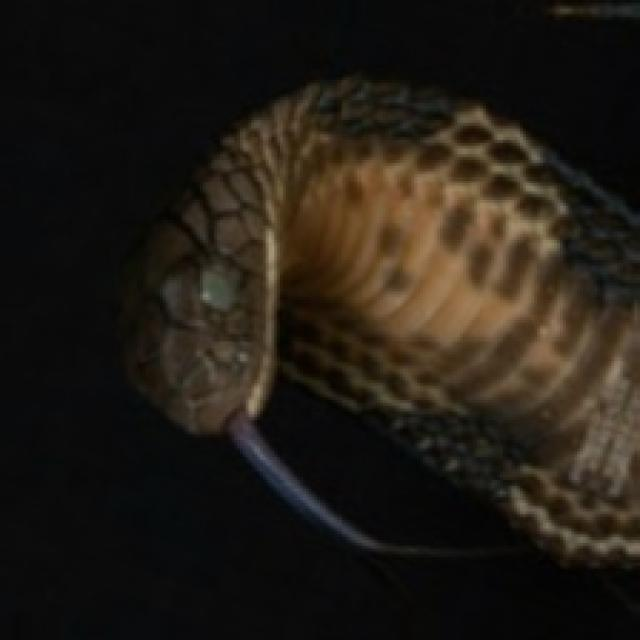king cobra: (126, 77, 637, 563)
